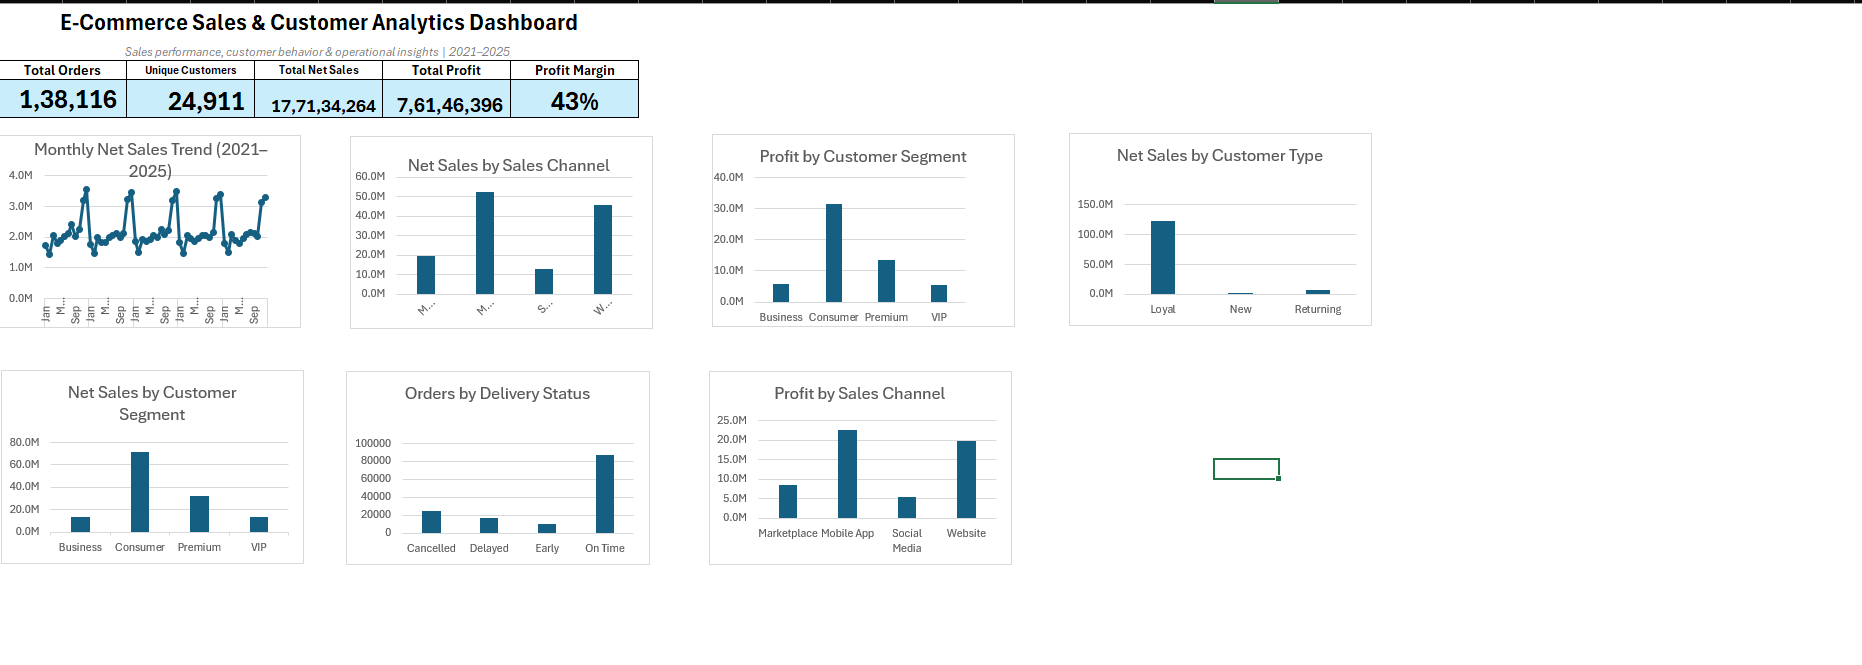

This screenshot's page, from the dashboard's own definition file:
{"tool":"powerbi","page":{"name":"Sales Overview","canvas":[1920,1080],"ordinal":0},"visuals":[{"type":"cardVisual","fields":{"Data":["ecommerce_sales.Total Orders"]},"box":[24,0,282,220],"z":0},{"type":"cardVisual","fields":{"Data":["ecommerce_sales.Unique Customers"]},"box":[368,0,306,220],"z":1000},{"type":"cardVisual","fields":{"Data":["ecommerce_sales.Total Net Sales"]},"box":[736,0,306,220],"z":2000},{"type":"cardVisual","fields":{"Data":["ecommerce_sales.Total profit"]},"box":[1104,0,306,220],"z":3000},{"type":"cardVisual","fields":{"Data":["ecommerce_sales.Profit Margin %"]},"box":[1472,0,312,220],"z":4000},{"type":"clusteredBarChart","title":"Net Sales by Sales Channel","fields":{"Category":["ecommerce_sales.sales_channel"],"Y":["Sum(ecommerce_sales.net_sales)"]},"box":[1374,264,440,290],"z":5000},{"type":"clusteredColumnChart","title":"Profit by Customer Segment","fields":{"Category":["ecommerce_sales.customer_segment"],"Y":["Sum(ecommerce_sales.profit)"]},"box":[520.7,578,390,370],"z":6000},{"type":"lineChart","title":"Monthly Sales Trend","fields":{"Category":["ecommerce_sales.order_date.Variation.Date Hierarchy.Year","ecommerce_sales.order_date.Variation.Date Hierarchy.Month"],"Y":["Sum(ecommerce_sales.net_sales)"]},"box":[14,250,434,304],"z":7000},{"type":"donutChart","title":"Order Status Distribution","fields":{"Category":["ecommerce_sales.order_status"],"Y":["CountNonNull(ecommerce_sales.order_id)"]},"box":[929.3,578,410,370],"z":8000},{"type":"clusteredBarChart","title":"Profit by Sales Channel","fields":{"Category":["ecommerce_sales.sales_channel"],"Y":["Sum(ecommerce_sales.profit)"]},"box":[919.3,259.3,432,304],"z":9000},{"type":"clusteredBarChart","title":"Return Rate by Sales Channel","fields":{"Category":["ecommerce_sales.sales_channel"],"Y":["ecommerce_sales.Return Rate %"]},"box":[470.7,254.7,426,304],"z":10000},{"type":"clusteredColumnChart","title":"Average Delivery Time by Shipping Method","fields":{"Category":["ecommerce_sales.shipping_method"],"Y":["Avg(ecommerce_sales.delivery_days)"]},"box":[1358,578,471,370],"z":11000},{"type":"clusteredBarChart","title":"Net Sales by Region","fields":{"Category":["ecommerce_sales.region"],"Y":["Sum(ecommerce_sales.net_sales)"]},"box":[14,578,488,370],"z":12000}]}

Visuals, with their boxes on the page's 1920x1080 design canvas (x1, y1, x2, y2). These are canvas units, not pixel positions in the 1862x665 screenshot, which may show the page scaled, cropped or inside an application window:
cardVisual - ecommerce_sales.Total Orders: [x1=24, y1=0, x2=306, y2=220]
cardVisual - ecommerce_sales.Unique Customers: [x1=368, y1=0, x2=674, y2=220]
cardVisual - ecommerce_sales.Total Net Sales: [x1=736, y1=0, x2=1042, y2=220]
cardVisual - ecommerce_sales.Total profit: [x1=1104, y1=0, x2=1410, y2=220]
cardVisual - ecommerce_sales.Profit Margin %: [x1=1472, y1=0, x2=1784, y2=220]
"Net Sales by Sales Channel" clusteredBarChart: [x1=1374, y1=264, x2=1814, y2=554]
"Profit by Customer Segment" clusteredColumnChart: [x1=521, y1=578, x2=911, y2=948]
"Monthly Sales Trend" lineChart: [x1=14, y1=250, x2=448, y2=554]
"Order Status Distribution" donutChart: [x1=929, y1=578, x2=1339, y2=948]
"Profit by Sales Channel" clusteredBarChart: [x1=919, y1=259, x2=1351, y2=563]
"Return Rate by Sales Channel" clusteredBarChart: [x1=471, y1=255, x2=897, y2=559]
"Average Delivery Time by Shipping Method" clusteredColumnChart: [x1=1358, y1=578, x2=1829, y2=948]
"Net Sales by Region" clusteredBarChart: [x1=14, y1=578, x2=502, y2=948]
